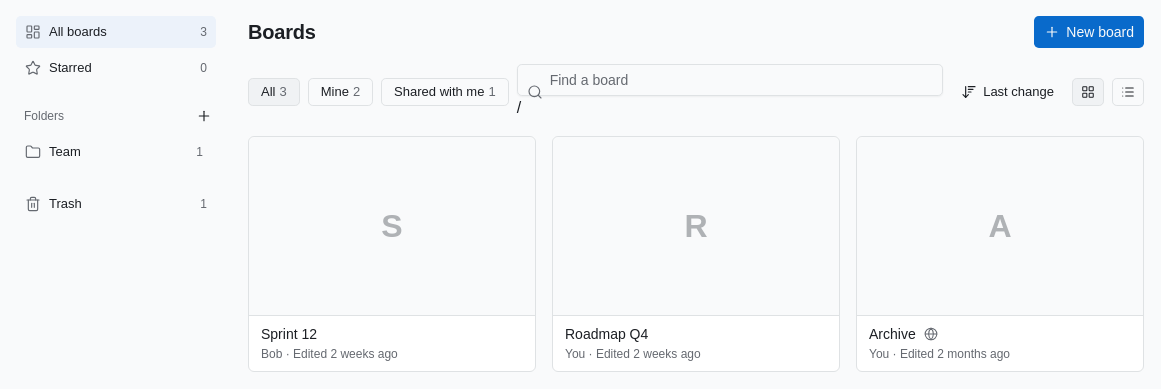
Test case: lists boards by last change and splits mine from shared with me
The image size is (1161, 389).
Expected: the text "You" is shown 2 times, x1=565 y1=347 x2=585 y2=361; x1=869 y1=347 x2=889 y2=361
Expected: the radio button labelled "All 3" is shown, x1=248 y1=78 x2=300 y2=106
Click the radio button labelled "Mine 2" at {"x": 340, "y": 92}, box x1=308 y1=78 x2=373 y2=106
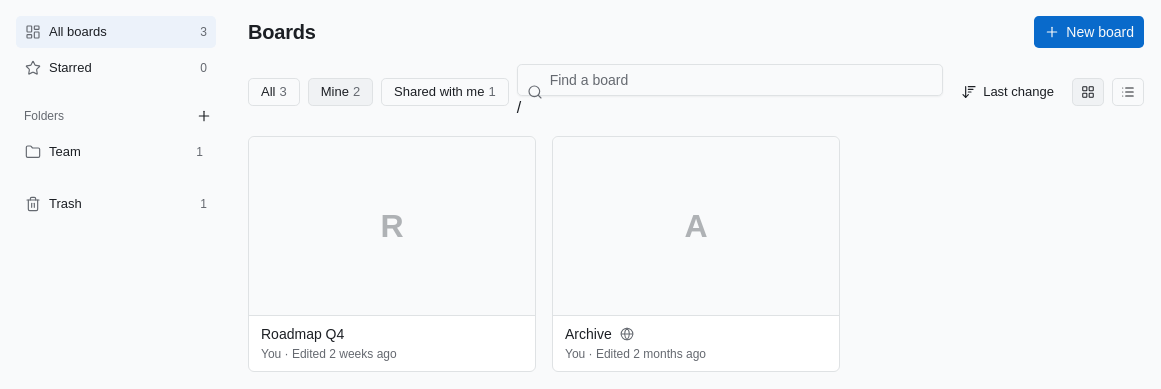
Click the radio button labelled "Shared with me 1" at {"x": 445, "y": 92}, box x1=381 y1=78 x2=509 y2=106
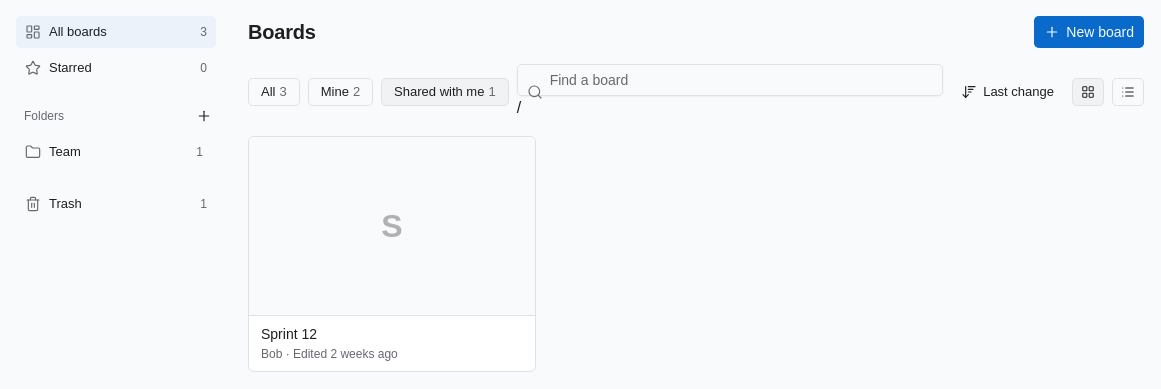
Result: the text "Bob" is shown at x1=261 y1=347 x2=282 y2=361
